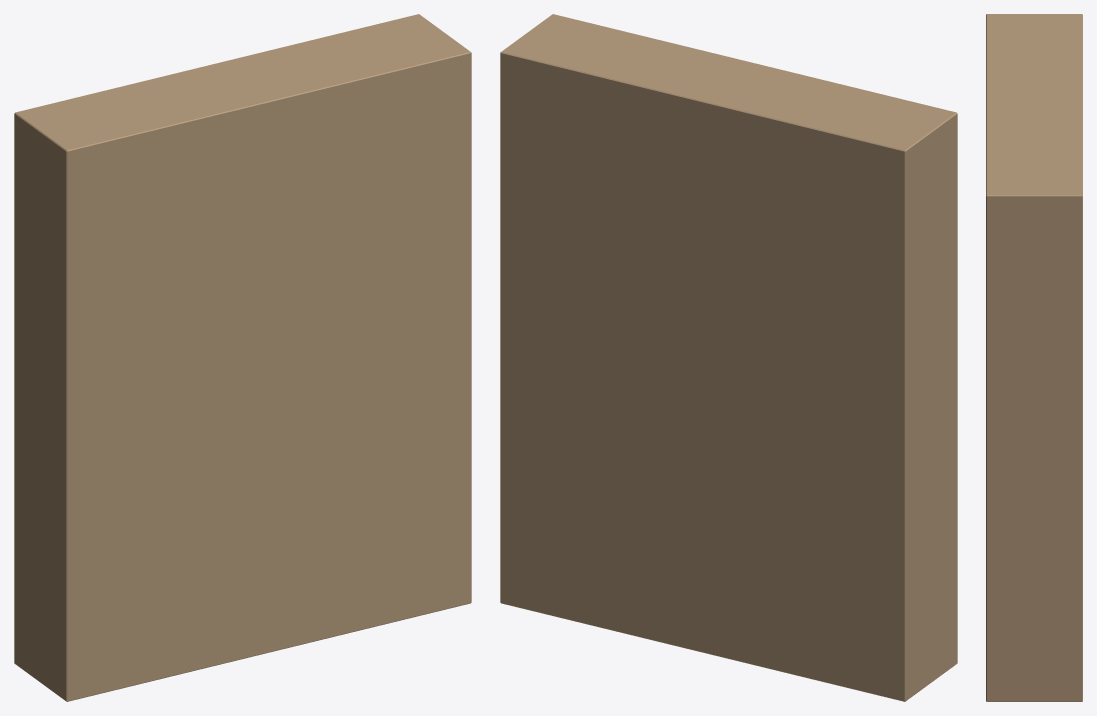
Rendered from kit_adobe_wall.glb.
The picture shows the model from 3 angles, left to right: view 1: azimuth 30°, elevation 25°; view 2: azimuth 150°, elevation 25°; view 3: azimuth 270°, elevation 25°; orthographic projection. The views are drawn at different scales.
Parts seen in each view (by area): view 1: adobe_wall; view 2: adobe_wall; view 3: adobe_wall.
Part boxes in pixels (box(x1,y1,x2,y2)): adobe_wall: box(14, 14, 471, 701); adobe_wall: box(500, 14, 957, 701); adobe_wall: box(986, 14, 1082, 701).
Size of the model in its own units: 2 by 2.6 by 0.45.
